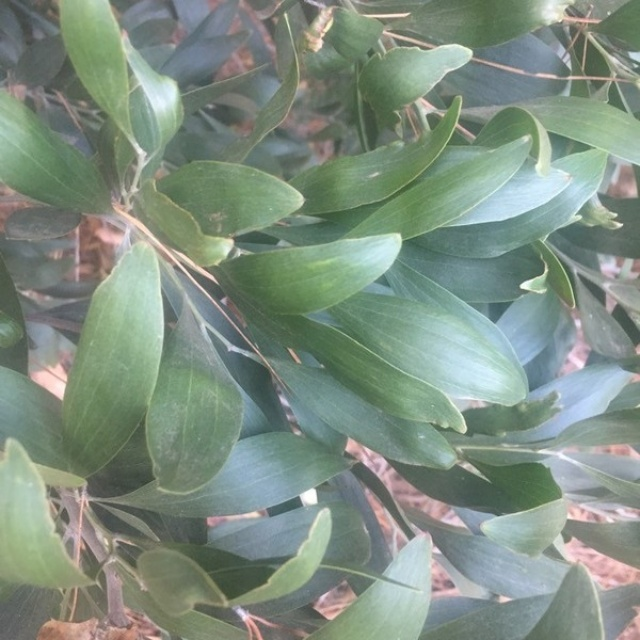obstacle: (47, 70, 514, 513)
